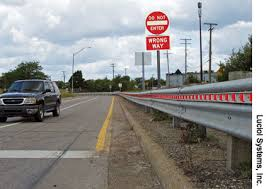doNotEnter: (143, 9, 171, 35)
